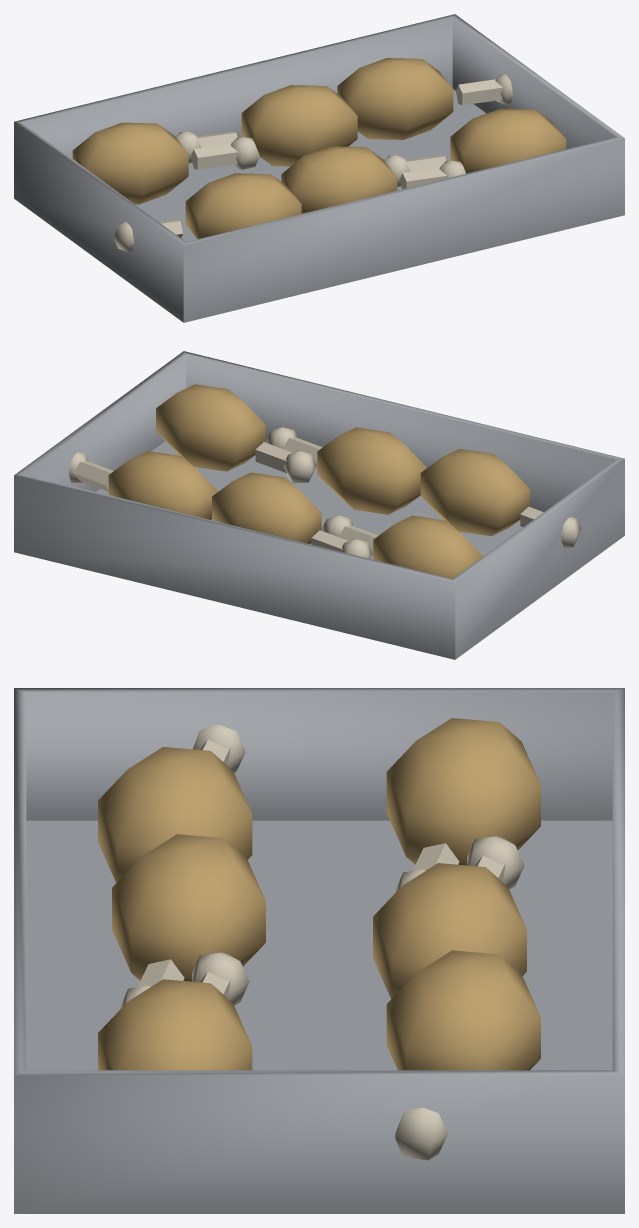
The model's file is chicken-tray.glb.
3 views of the same model, one above another, from view 1: azimuth 30°, elevation 25°; view 2: azimuth 150°, elevation 25°; view 3: azimuth 270°, elevation 25° (orthographic). The views are drawn at different scales.
Parts seen in each view (by area): view 1: BODY; view 2: BODY; view 3: BODY.
Boxes of the visible parts, <box> form: BODY: <box>14,14,624,322</box>; BODY: <box>14,351,624,659</box>; BODY: <box>14,688,624,1213</box>.
Bounding box in the file's own units: 0.3153 × 0.0569 × 0.2.
